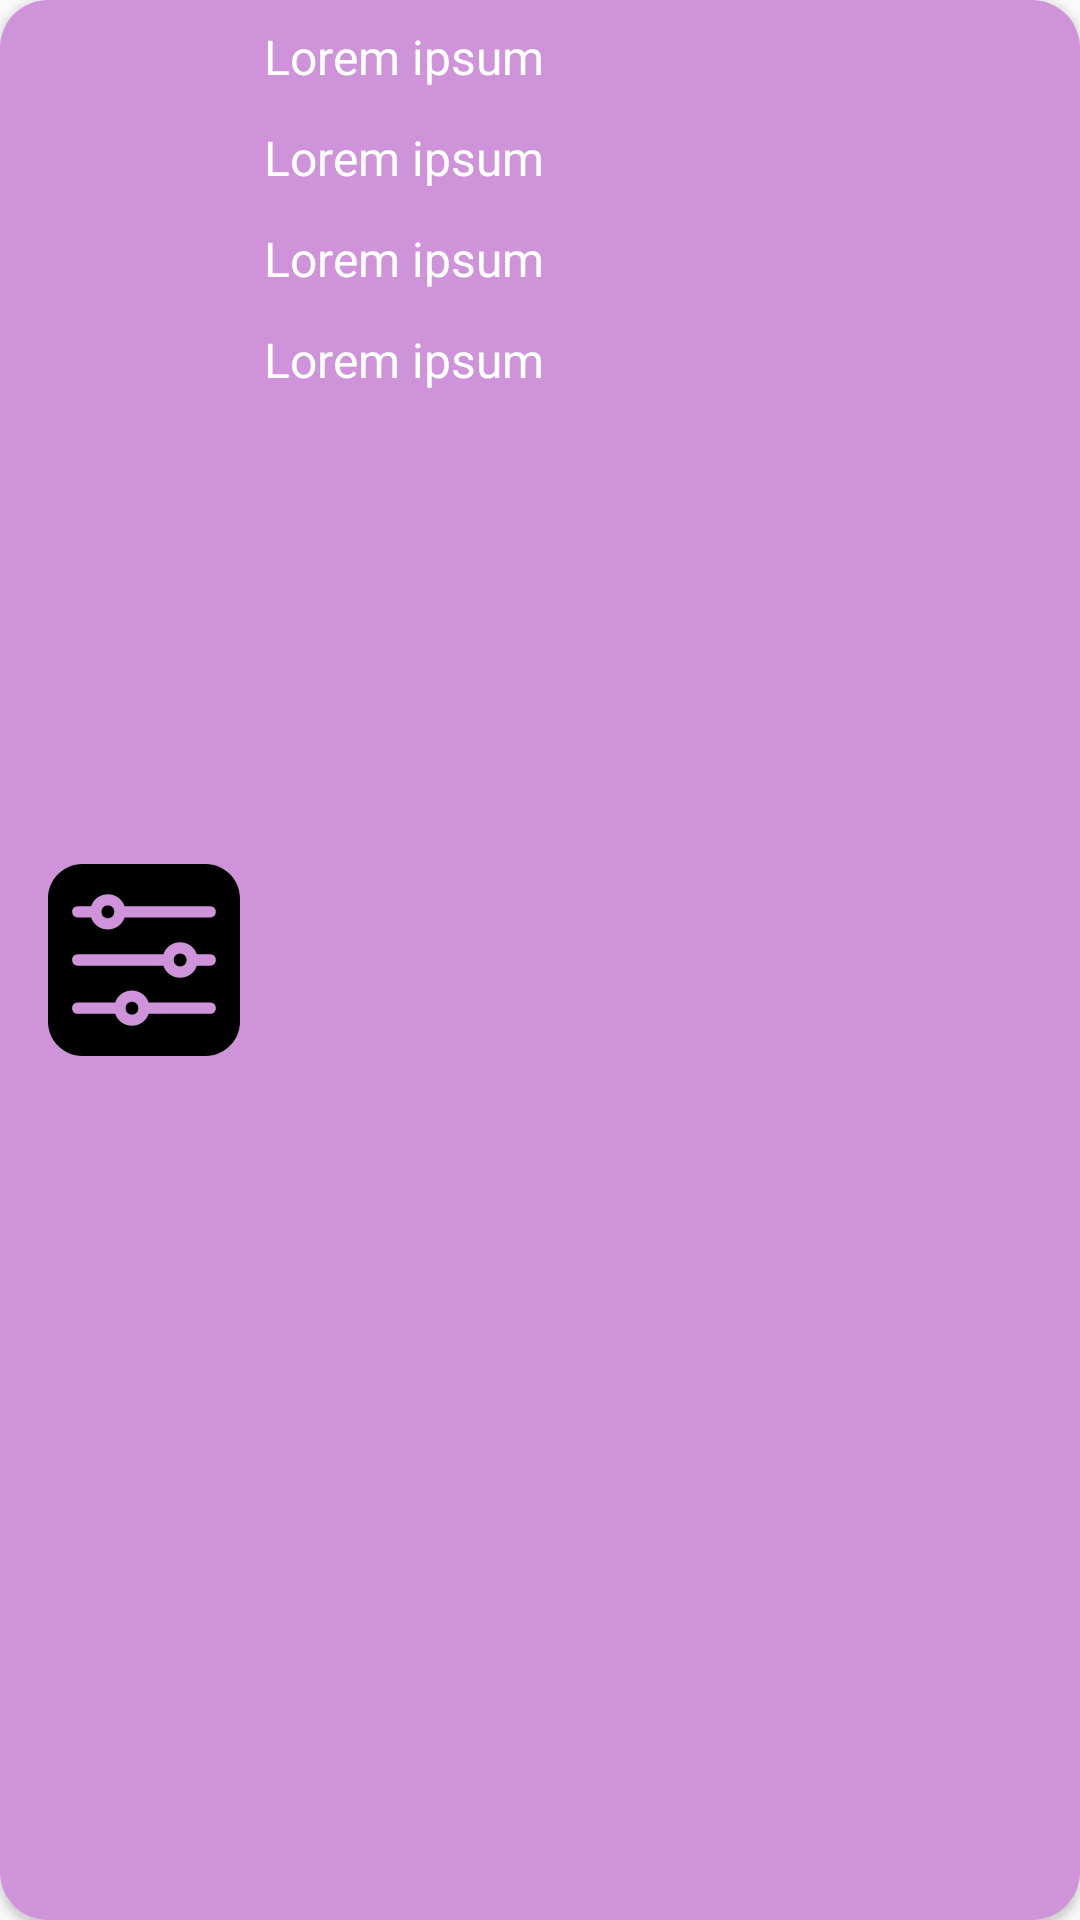

Locate icon controls on the screen. Image size 1080 x 1920, boxes as [x1=x1, y1=y1, x2=x2, y2=y2].
filter: [x1=48, y1=864, x2=240, y2=1056]
